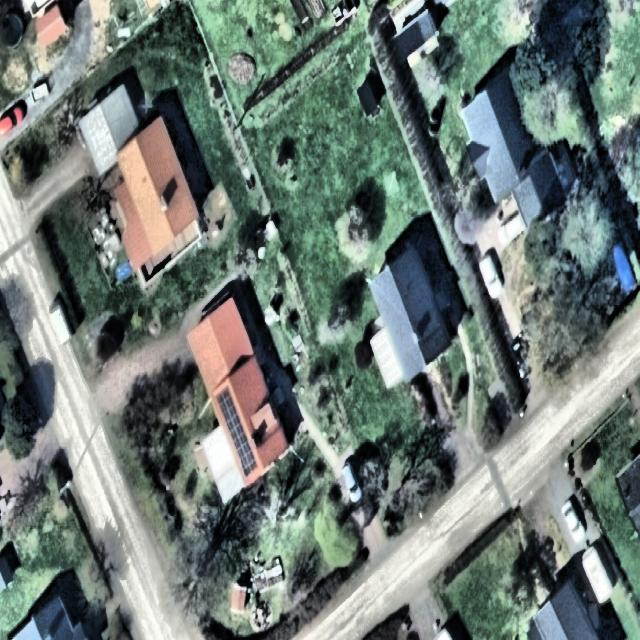roof_pv: (216, 382, 258, 481)
